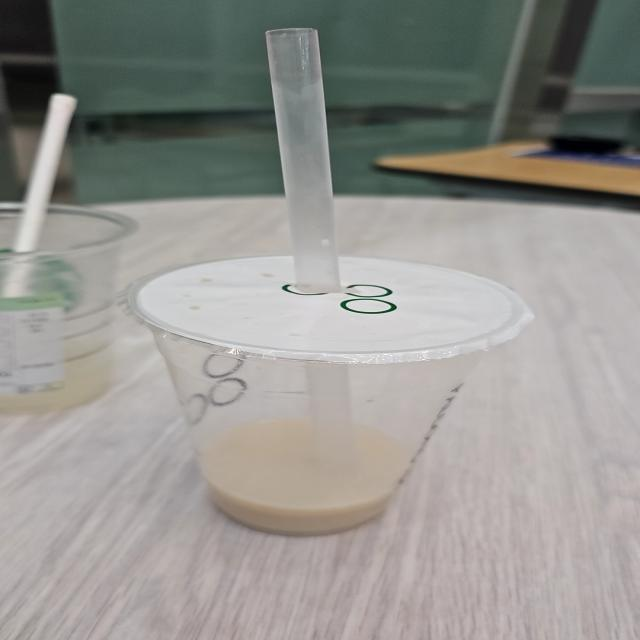cup: (113, 258, 531, 556)
